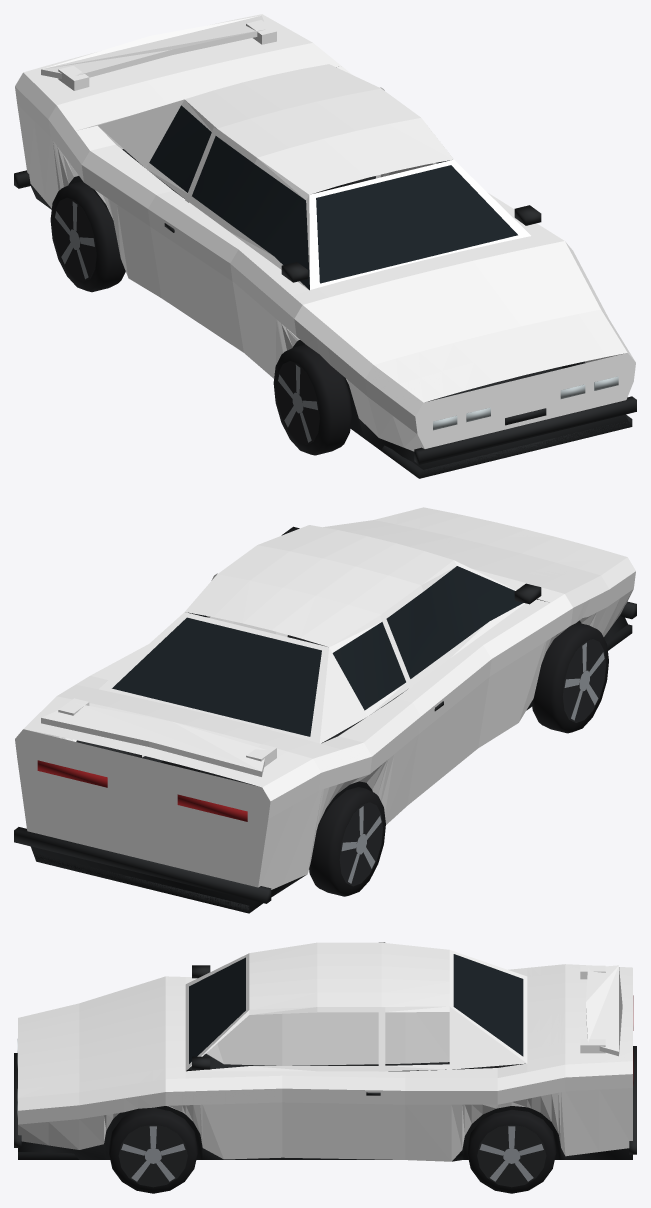
File: vorhaus_corda.glb
3 renders of one model, top to bottom at view 1: azimuth 30°, elevation 25°; view 2: azimuth 150°, elevation 25°; view 3: azimuth 270°, elevation 25°, orthographic. The views are drawn at different scales.
Parts seen in each view (by area): view 1: Body_Paint, Body_Details, Mount_FrontLeft_Wheel_Details, Mount_RearLeft_Wheel_Details; view 2: Body_Paint, Body_Details, Mount_FrontLeft_Wheel_Details, Mount_RearLeft_Wheel_Details; view 3: Body_Paint, Body_Details, Mount_FrontRight_Wheel_Details, Mount_RearRight_Wheel_Details.
Part boxes in pixels (x1,y1,x2,y2): Body_Paint: [15, 14, 635, 451]; Body_Details: [14, 105, 636, 478]; Mount_FrontLeft_Wheel_Details: [273, 344, 351, 455]; Mount_RearLeft_Wheel_Details: [50, 181, 125, 292]; Body_Paint: [15, 507, 635, 889]; Body_Details: [14, 526, 636, 913]; Mount_FrontLeft_Wheel_Details: [531, 622, 608, 733]; Mount_RearLeft_Wheel_Details: [309, 787, 385, 896]; Body_Paint: [18, 942, 632, 1161]; Body_Details: [14, 954, 636, 1161]; Mount_FrontRight_Wheel_Details: [109, 1107, 197, 1193]; Mount_RearRight_Wheel_Details: [467, 1109, 556, 1193].
Bounding box in the file's own units: 1.91 × 1.31 × 4.41.
2 materials, 1 textured.
